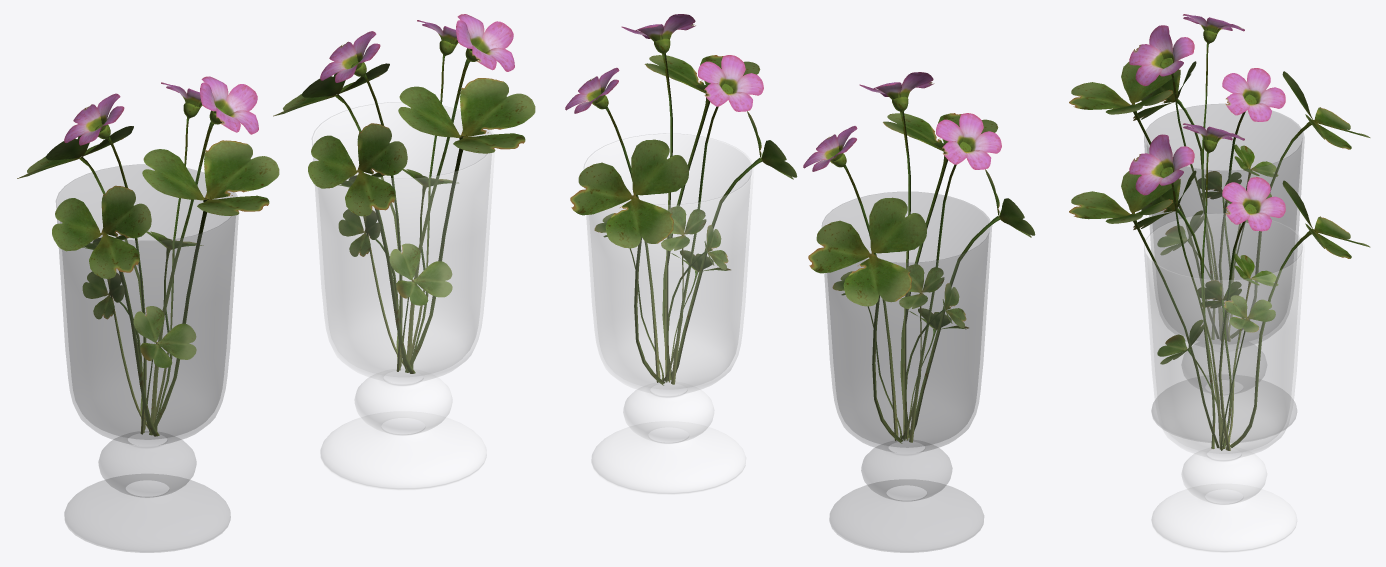
Rendered from florero.glb.
3 renders of one model, left to right at view 1: azimuth 30°, elevation 25°; view 2: azimuth 150°, elevation 25°; view 3: azimuth 270°, elevation 25°, orthographic. The views are drawn at different scales.
Parts seen in each view (by area): view 1: GlassAlpha, GlassTransmission, Flowers2, Flowers1; view 2: GlassAlpha, GlassTransmission, Flowers2, Flowers1; view 3: GlassTransmission, GlassAlpha, Flowers2, Flowers1.
Part boxes in pixels (x1=…): GlassAlpha: x1=56, y1=164, x2=238, y2=552; GlassTransmission: x1=312, y1=102, x2=494, y2=490; Flowers2: x1=273, y1=14, x2=535, y2=373; Flowers1: x1=17, y1=76, x2=279, y2=436; GlassAlpha: x1=822, y1=192, x2=991, y2=552; GlassTransmission: x1=584, y1=133, x2=753, y2=494; Flowers2: x1=565, y1=14, x2=797, y2=385; Flowers1: x1=803, y1=72, x2=1035, y2=443; GlassTransmission: x1=1144, y1=213, x2=1304, y2=552; GlassAlpha: x1=1144, y1=104, x2=1304, y2=442; Flowers2: x1=1069, y1=123, x2=1370, y2=450; Flowers1: x1=1069, y1=14, x2=1370, y2=341.
Size of the model in its own units: 0.2173 by 0.2032 by 0.1425.
Materials: 3 (1 with a texture image).
